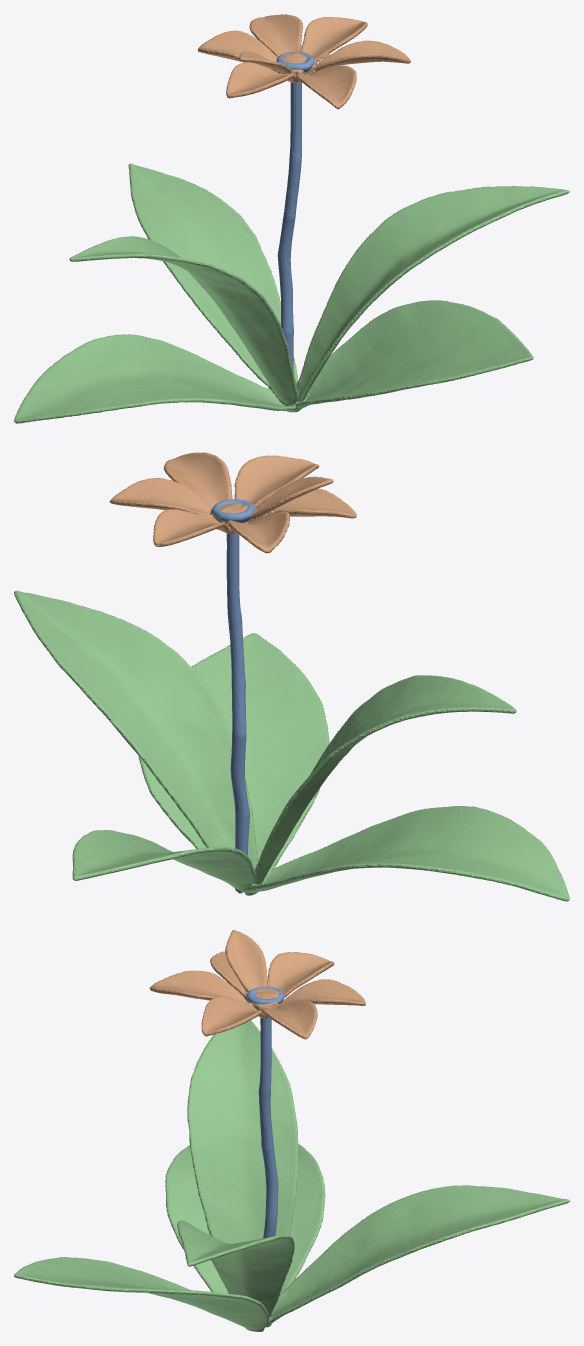
Rendered from flower1.glb.
3 views of the same model, one above another, from view 1: azimuth 30°, elevation 25°; view 2: azimuth 150°, elevation 25°; view 3: azimuth 270°, elevation 25° (orthographic). The views are drawn at different scales.
Visible parts, largest first — view 1: part_2_leaves, part_1_flower petals, part_0_flower stem; view 2: part_2_leaves, part_1_flower petals, part_0_flower stem; view 3: part_2_leaves, part_1_flower petals, part_0_flower stem.
Part boxes in pixels (x1,y1,x2,y2): part_2_leaves: (14, 163, 569, 423); part_1_flower petals: (198, 14, 411, 109); part_0_flower stem: (276, 51, 314, 374); part_2_leaves: (14, 590, 569, 901); part_1_flower petals: (109, 452, 356, 553); part_0_flower stem: (212, 499, 254, 892); part_2_leaves: (14, 1020, 569, 1331); part_1_flower petals: (149, 930, 365, 1039); part_0_flower stem: (246, 986, 284, 1327).
Bounding box in the file's own units: 1.92 × 1.31 × 1.78.
